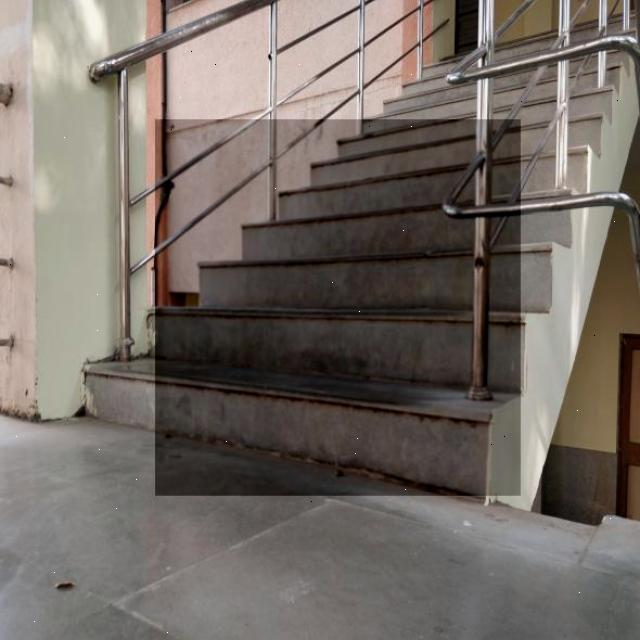stair: (155, 119, 521, 496)
